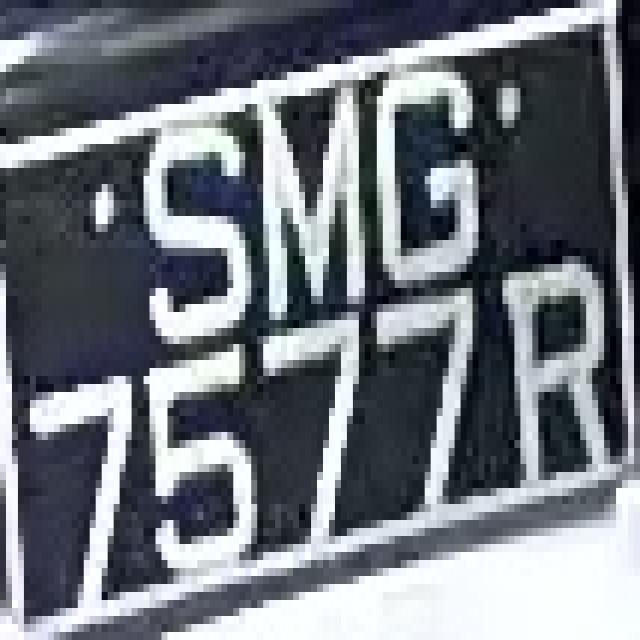5: (150, 344, 257, 600)
7: (12, 368, 155, 624), (245, 304, 383, 552), (365, 264, 478, 560)
G: (353, 40, 502, 280)
M: (239, 80, 377, 312)
R: (497, 224, 622, 520)
S: (108, 88, 245, 352)
